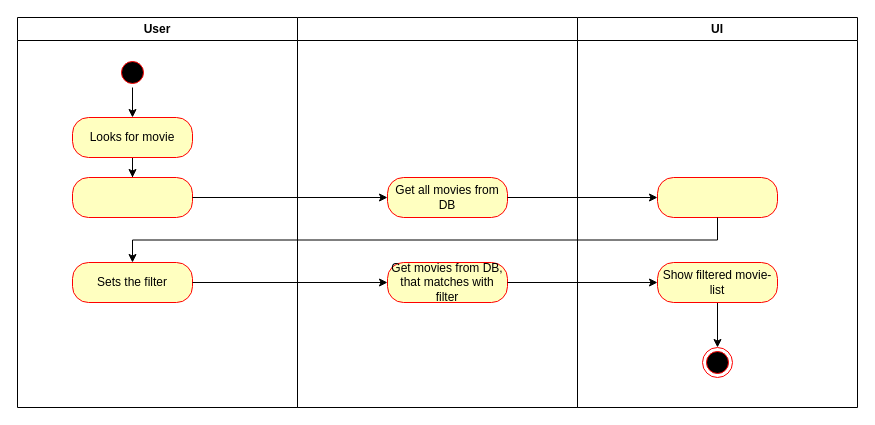
Image size: 875x425. Some labels were removed from this diagram. Each missing label, with the box of its shape:
Controller (Backend): (296, 16, 578, 408)
Navigates to movie-view: (72, 176, 192, 218)
Shows movie-view: (656, 176, 778, 218)
